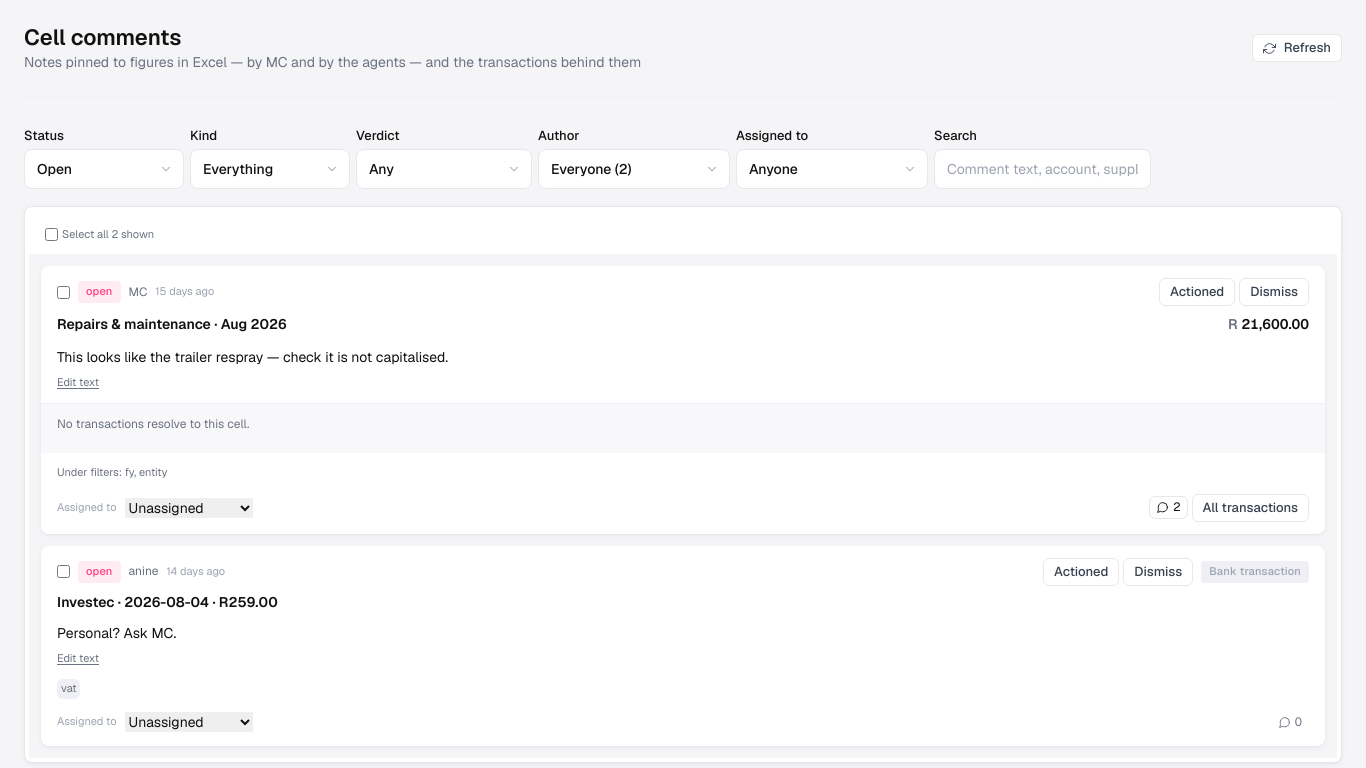
AuditComments — reply threads › a top-level post sends no parentId, and the badge bumps without a reload
Click the button with test id "inline-comment-trigger" showing "2". click: [1168, 508]
box: left=1149, top=496, right=1188, bottom=519
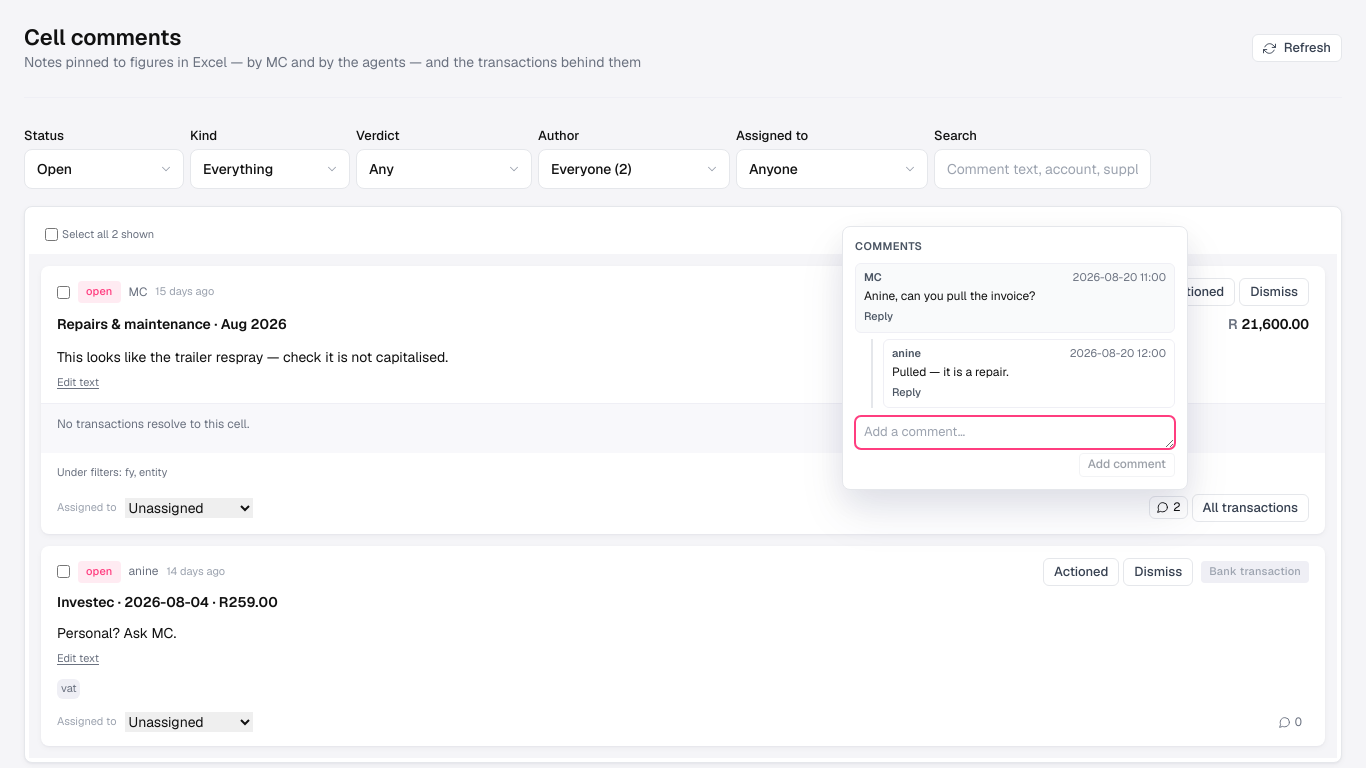
Type "  Agreed — repair.  " into the text box with test id "comment-input". click: [1015, 433]
box: left=855, top=416, right=1175, bottom=449
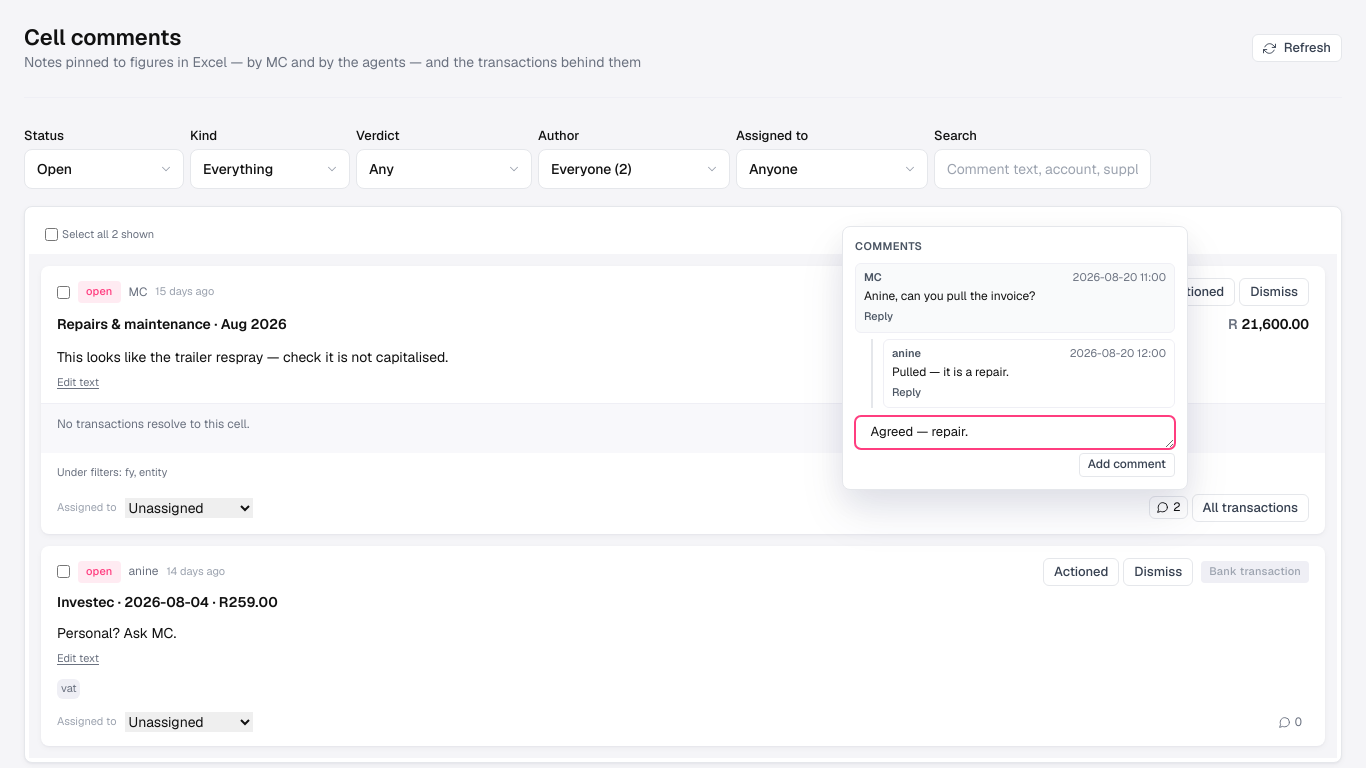
Click the button with test id "comment-submit". click: [1127, 465]
box: left=1079, top=453, right=1175, bottom=477
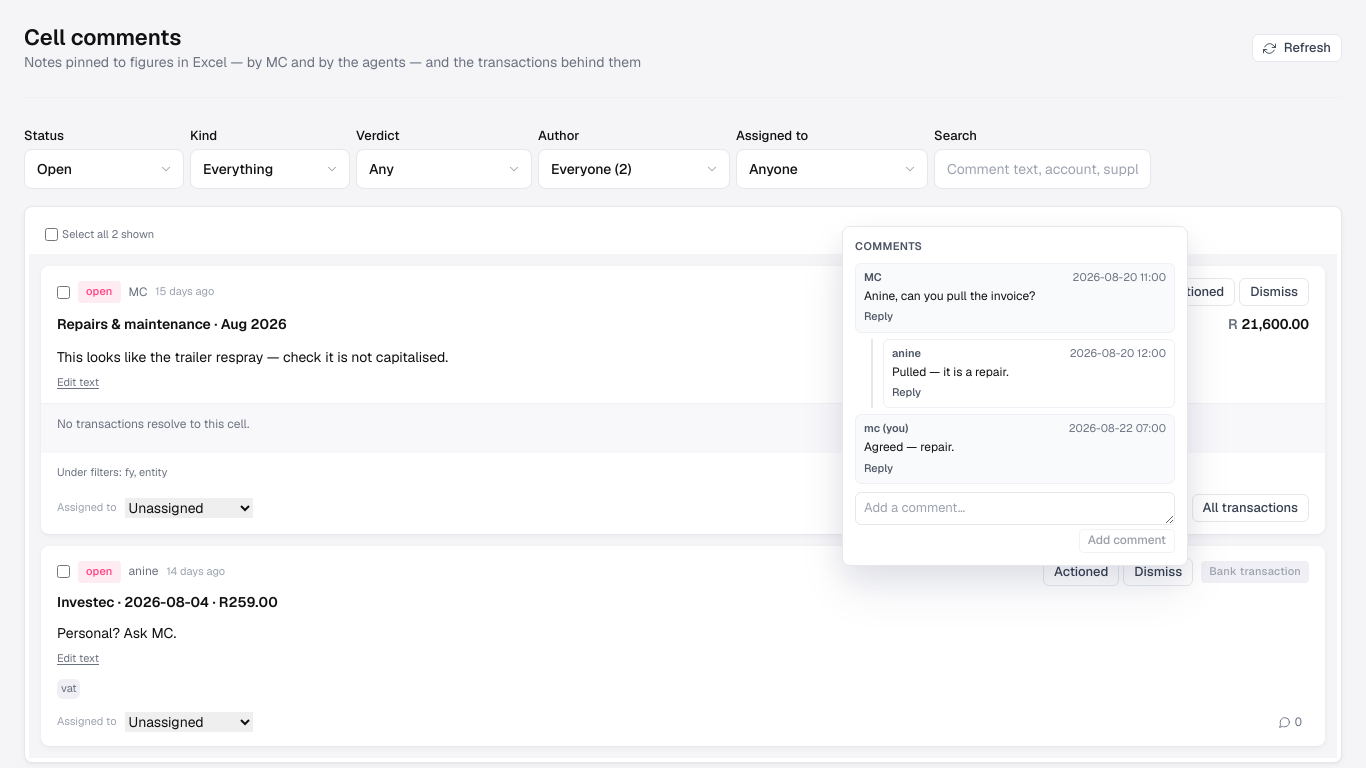
Expected: the text "Agreed — repair." is shown, left=864, top=439, right=954, bottom=455
